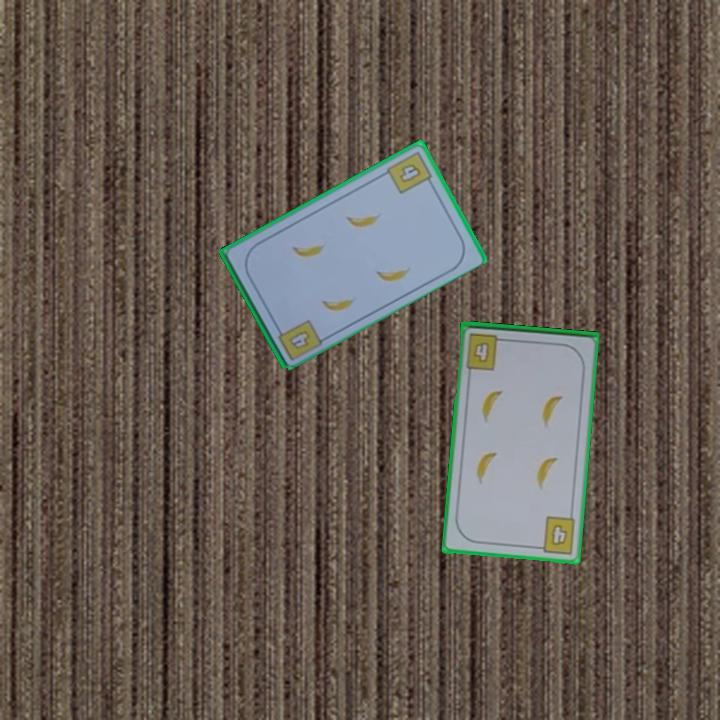4b: (383, 148, 436, 197), (532, 513, 578, 557), (463, 330, 508, 373), (285, 326, 313, 352)
